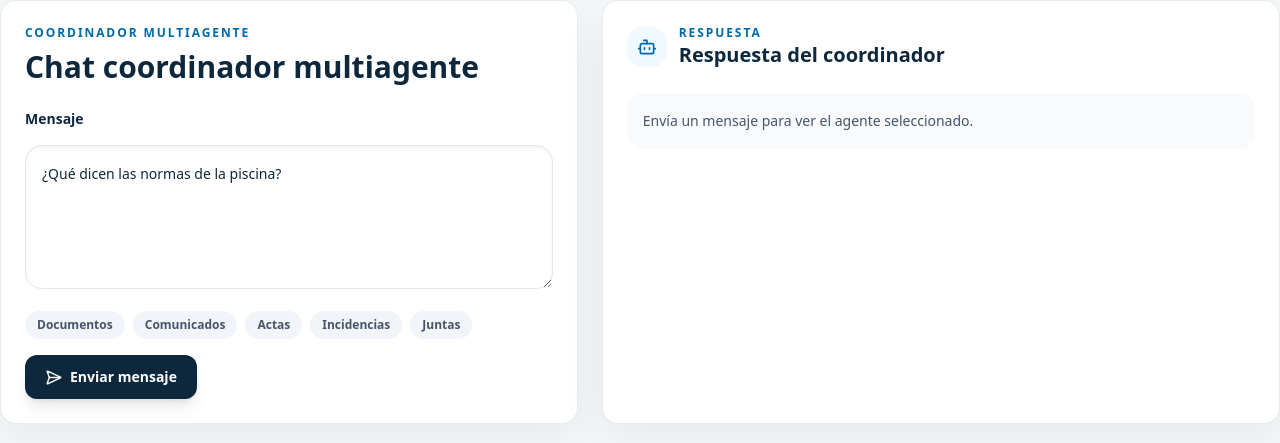
Test: ChatPanel › permite preparar mensajes de ejemplo para todas las áreas del MVP
The image size is (1280, 443).
Expected: the button "Documentos" is shown, [25,311,125,339]
Expected: the button "Comunicados" is shown, [133,311,237,339]
Click the button "Incidencias" at (356, 325), box [310,311,402,339]
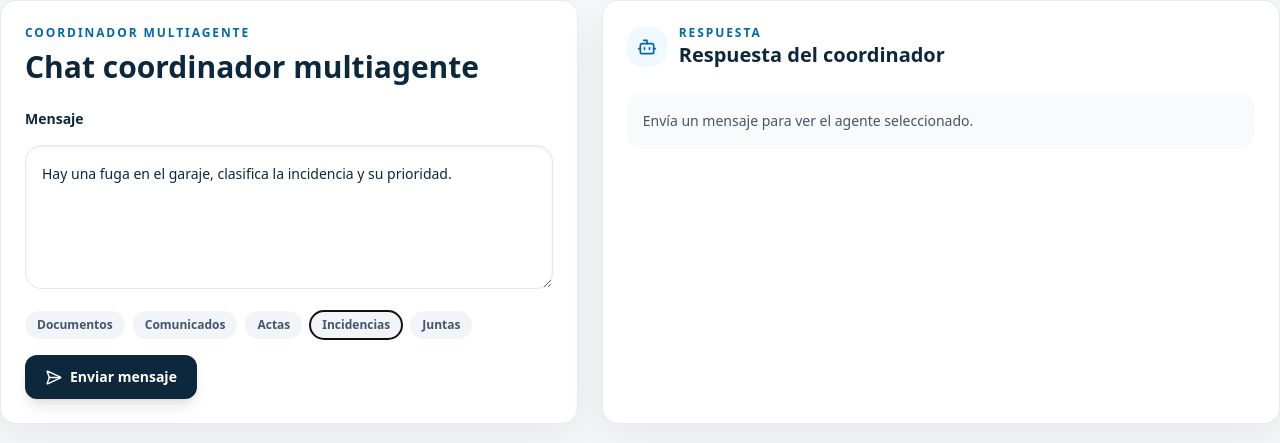
Click the button "Enviar mensaje" at (111, 377), box [25,355,197,399]
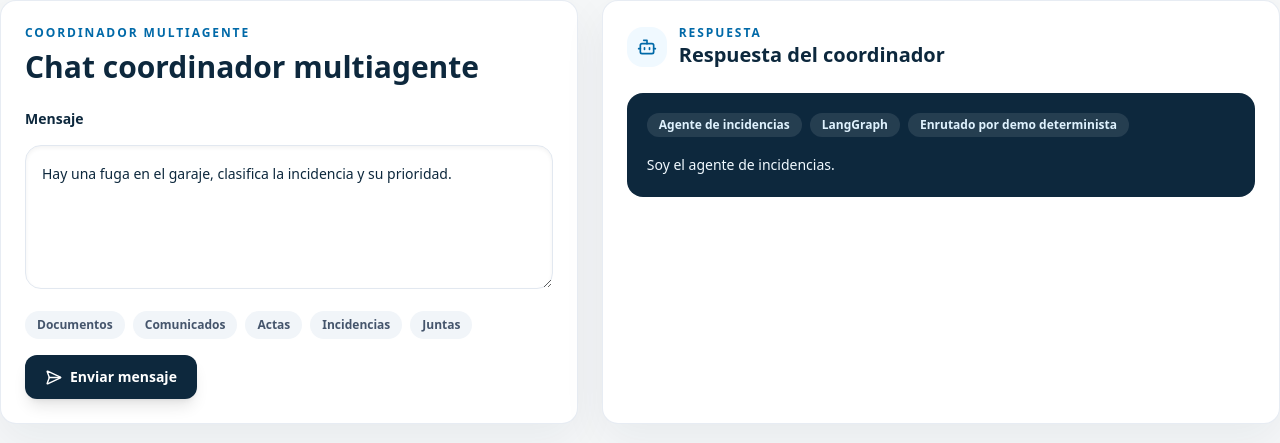
Now the text "Agente de incidencias" is shown, box [647,113,802,137]
